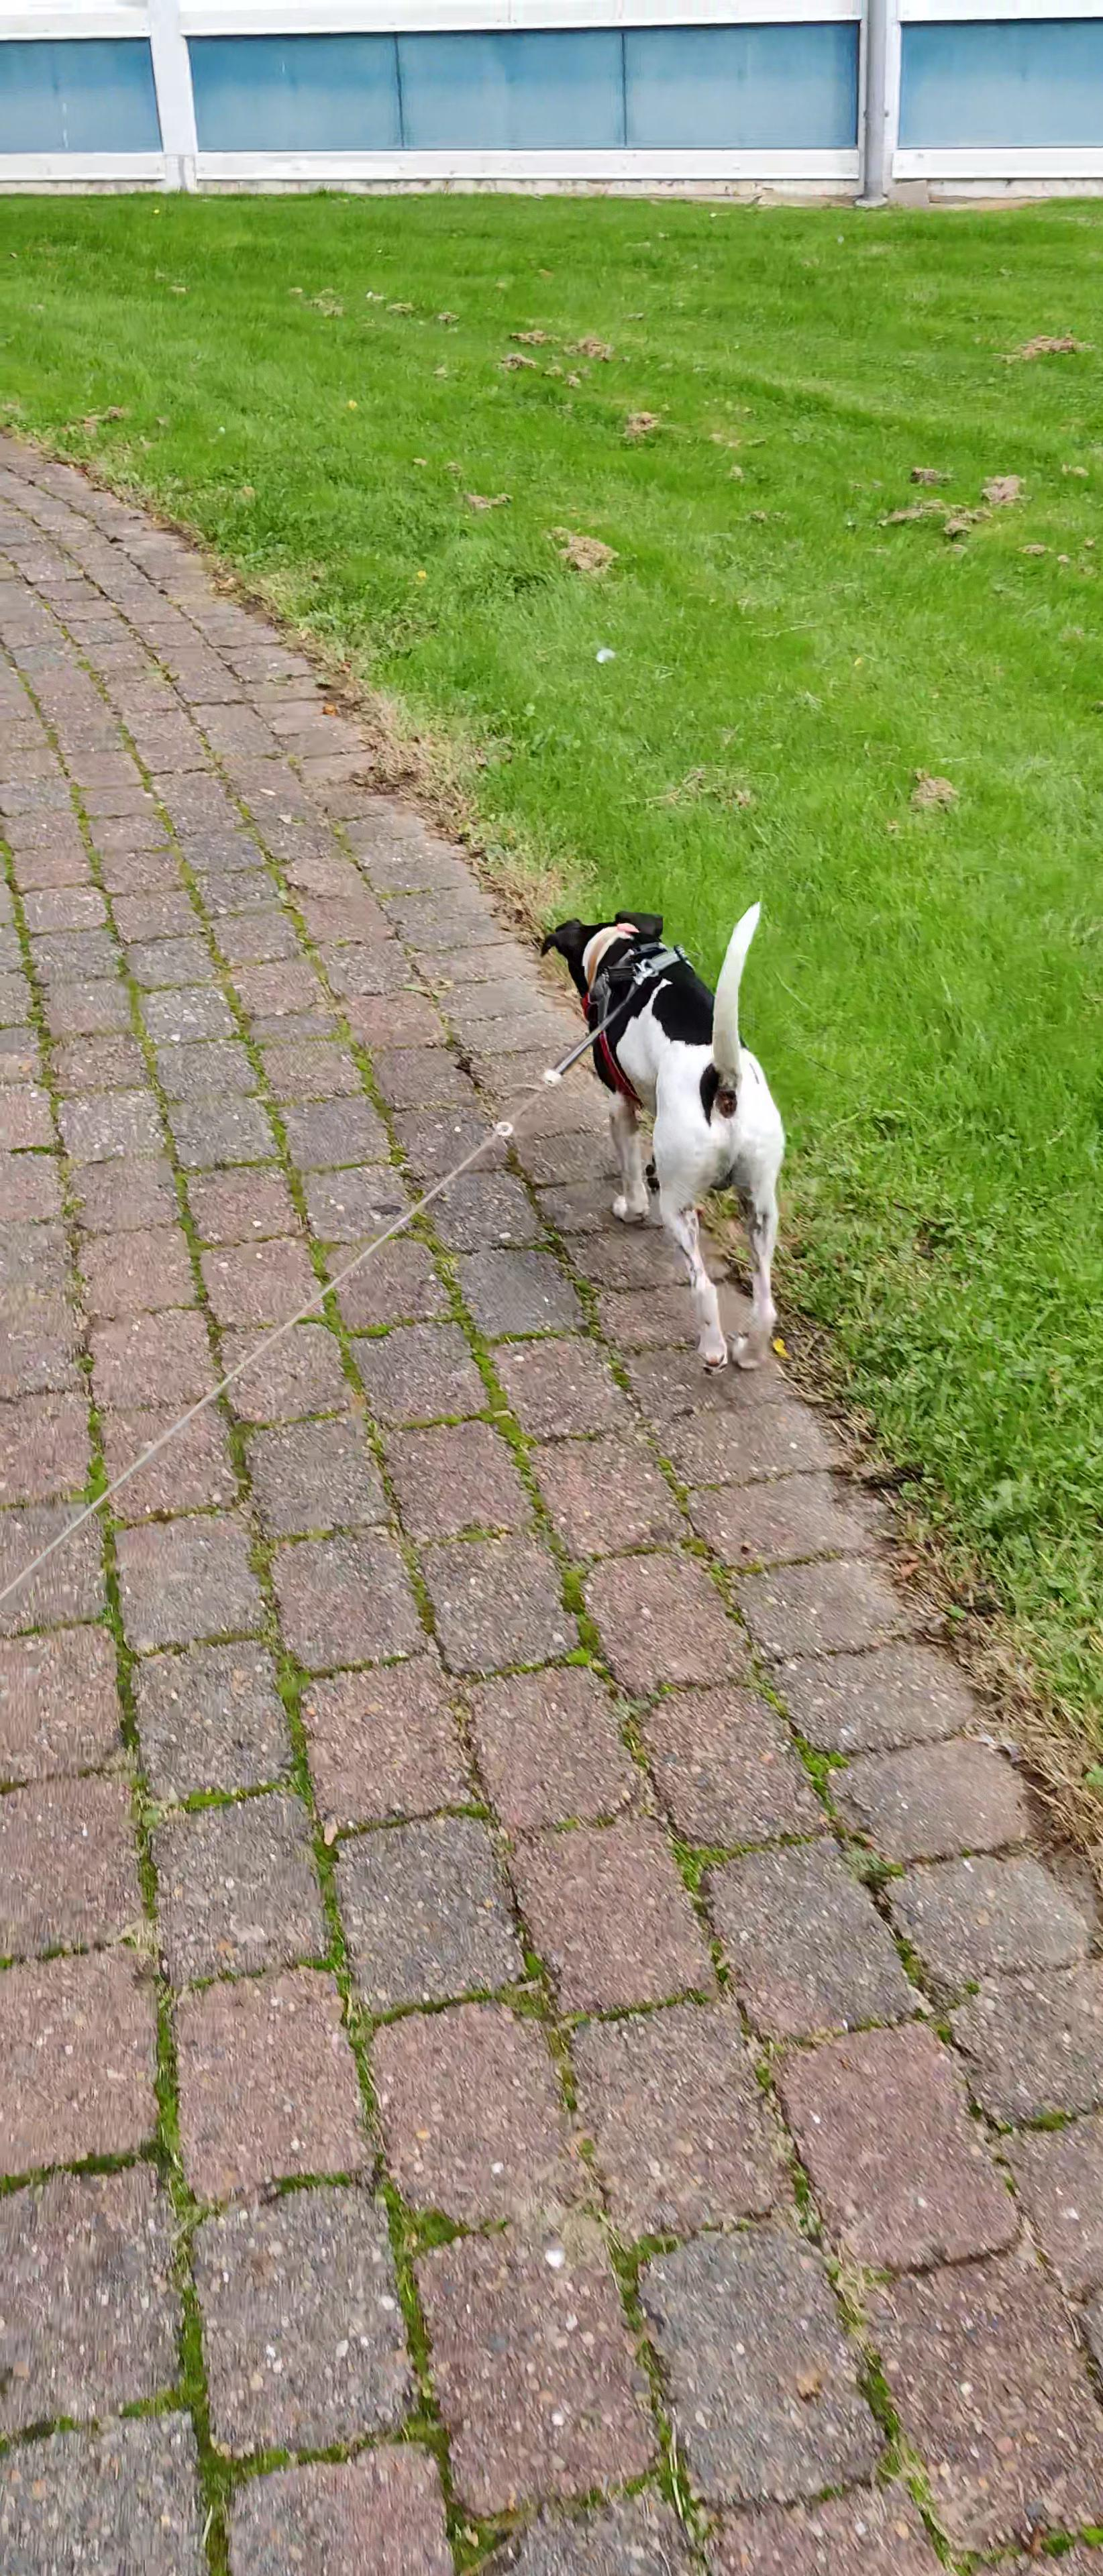Dog: (523, 862, 822, 1400)
